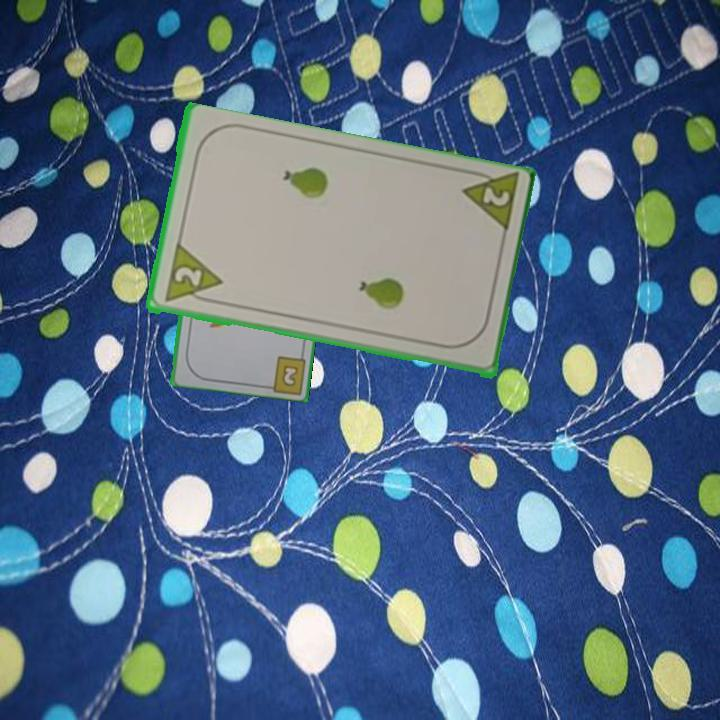2b: (278, 361, 301, 389)
2p: (457, 165, 521, 238), (160, 242, 225, 308)
